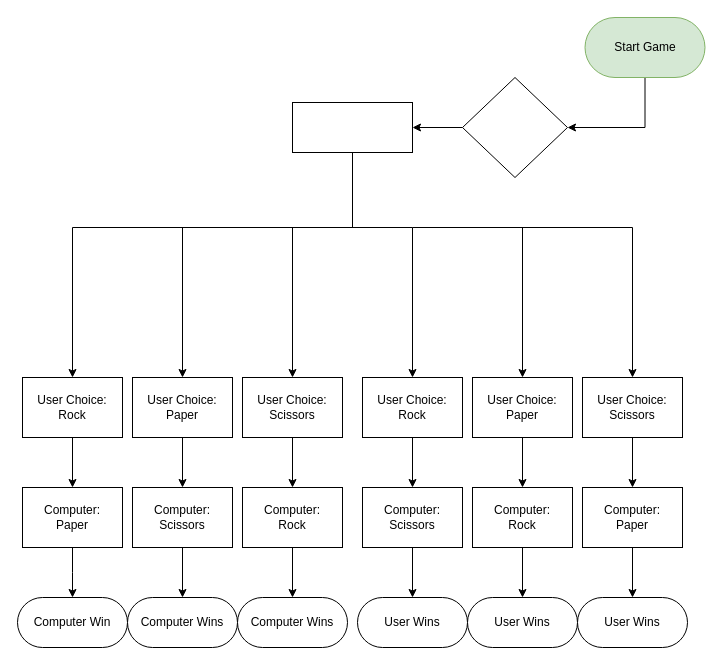
Some shapes in this 723 by 665 pixel diagram are drawn without their labels. The centre of each missing label's shape, as x and y in pixels:
"Randomly Generate Computer Choice" belongs at [352,127].
"User Choice" belongs at [515,127].
